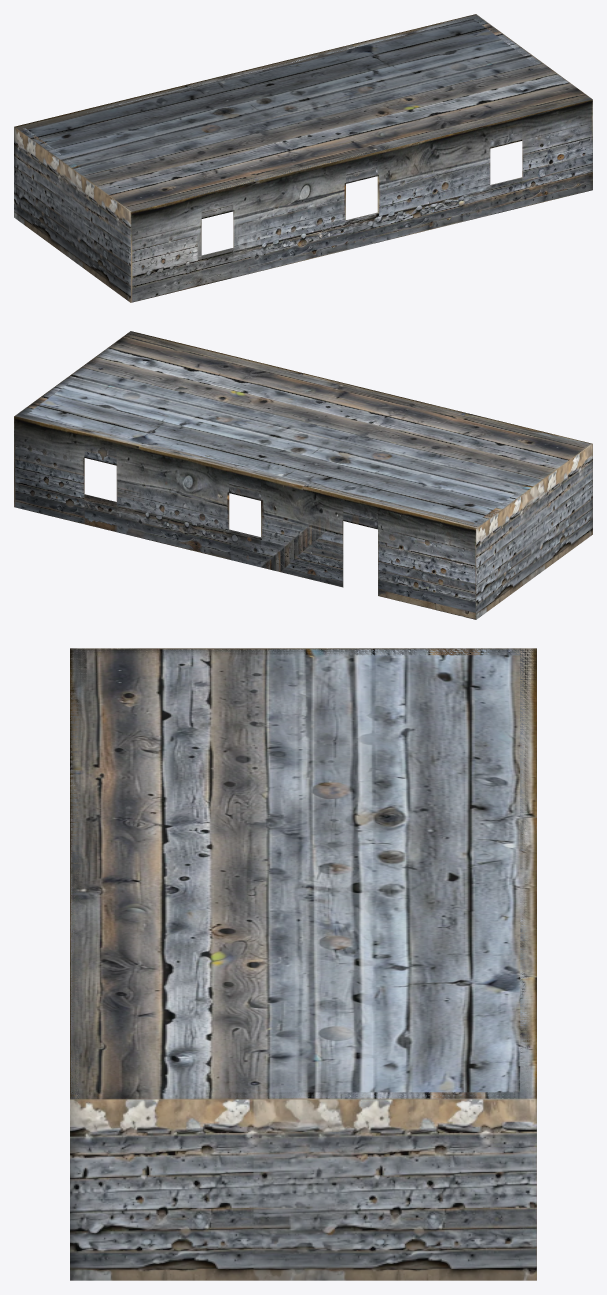
File: skin_airfield_-150_170.glb
3 views of the same model, one above another, from view 1: azimuth 30°, elevation 25°; view 2: azimuth 150°, elevation 25°; view 3: azimuth 270°, elevation 25° (orthographic). The views are drawn at different scales.
Parts seen in each view (by area): view 1: airfield_-150_170; view 2: airfield_-150_170; view 3: airfield_-150_170.
Boxes of the visible parts, <box> form: airfield_-150_170: <box>14,14,592,302</box>; airfield_-150_170: <box>14,331,592,619</box>; airfield_-150_170: <box>70,648,536,1280</box>.
Size of the model in its own units: 16 by 3 by 7.
Materials: 1 (1 with a texture image).
